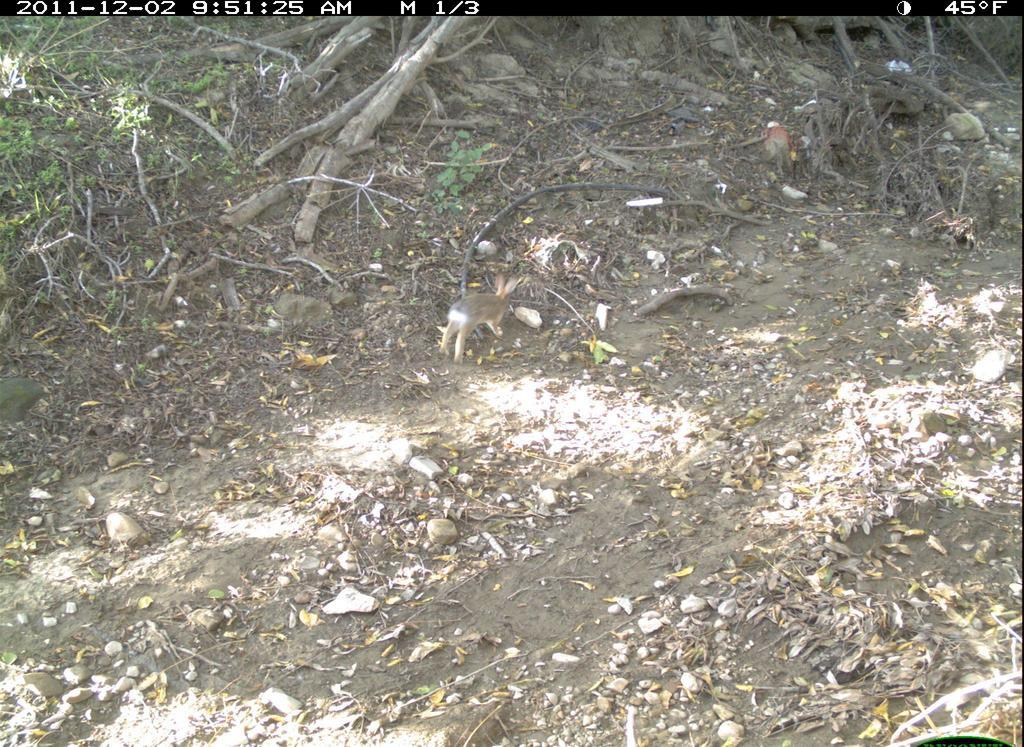rabbit: (436, 264, 527, 367)
